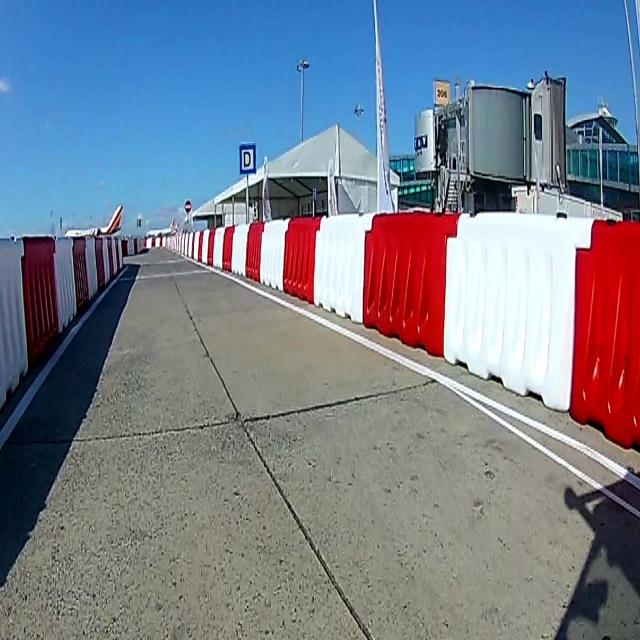durak: (239, 144, 257, 176)
girisyok: (184, 199, 192, 213)
